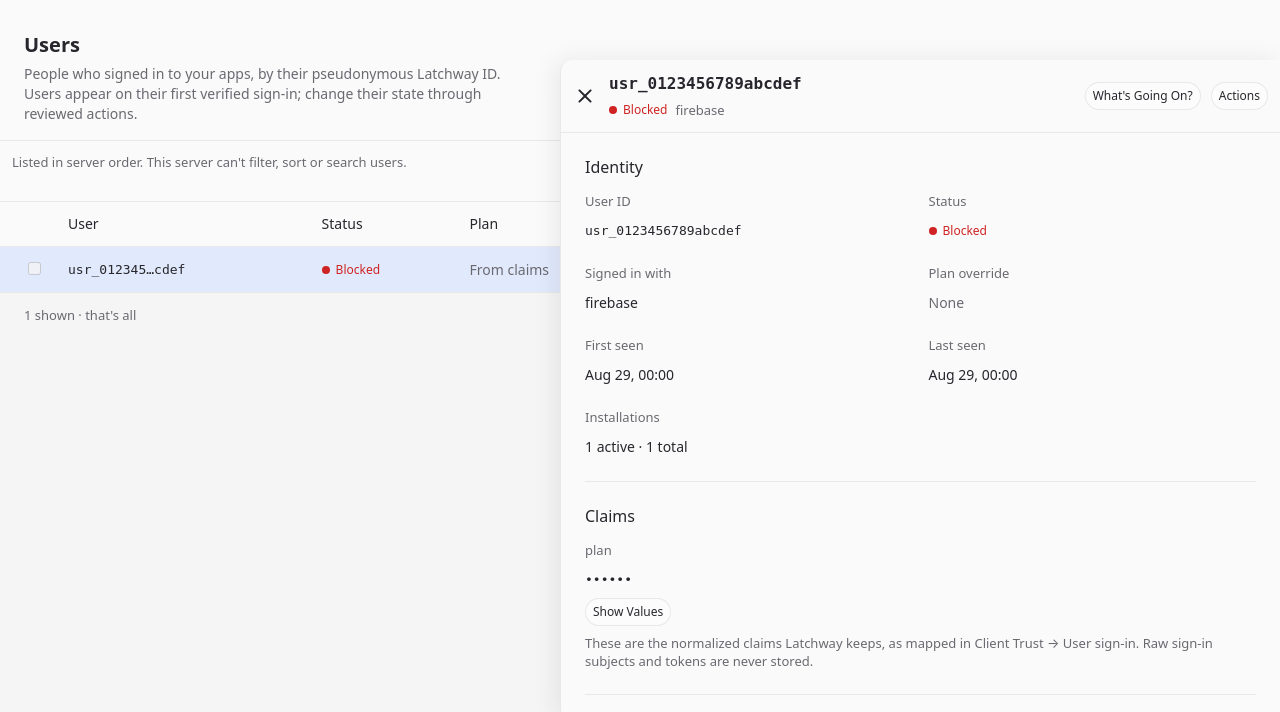
Test: Users › offers only Unblock and an override for a blocked user
Expected: the heading "Identity" is shown, [585,156,643,178]
Click the button "What's Going On?" at (1143, 96), box [1085,82,1201,110]
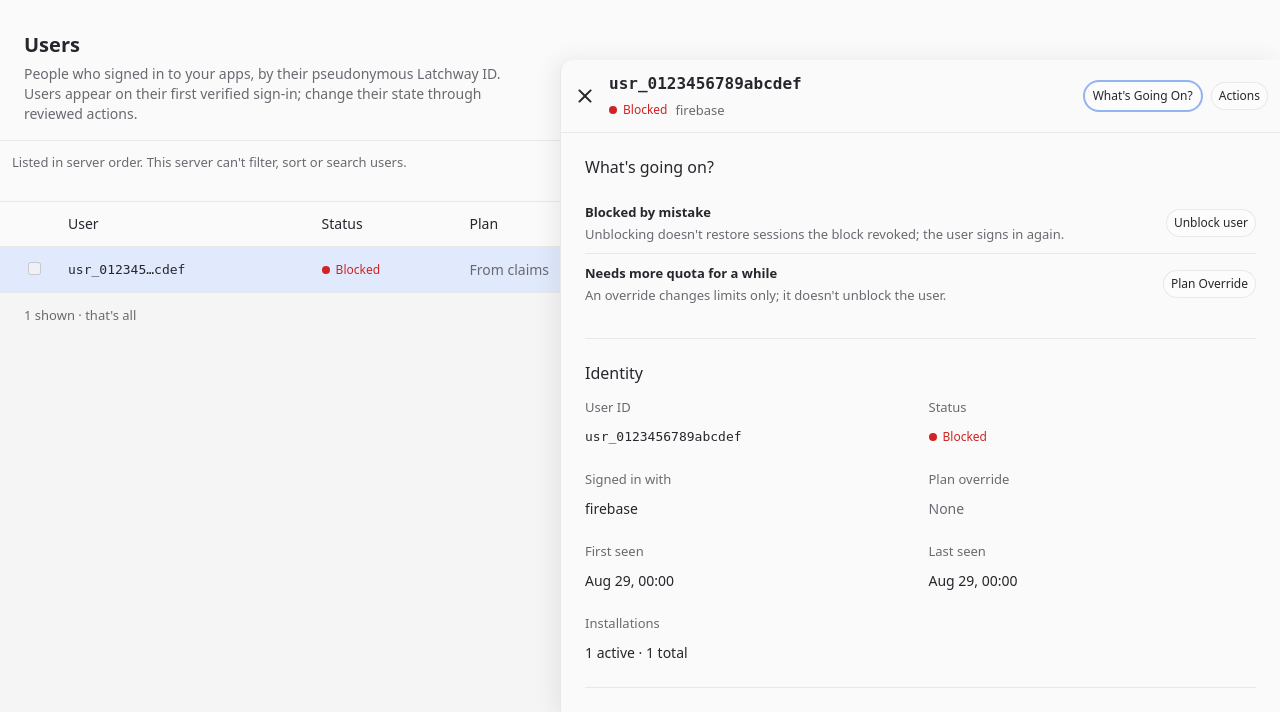
Expected: the text "Blocked by mistake" is shown, [585,203,711,221]
